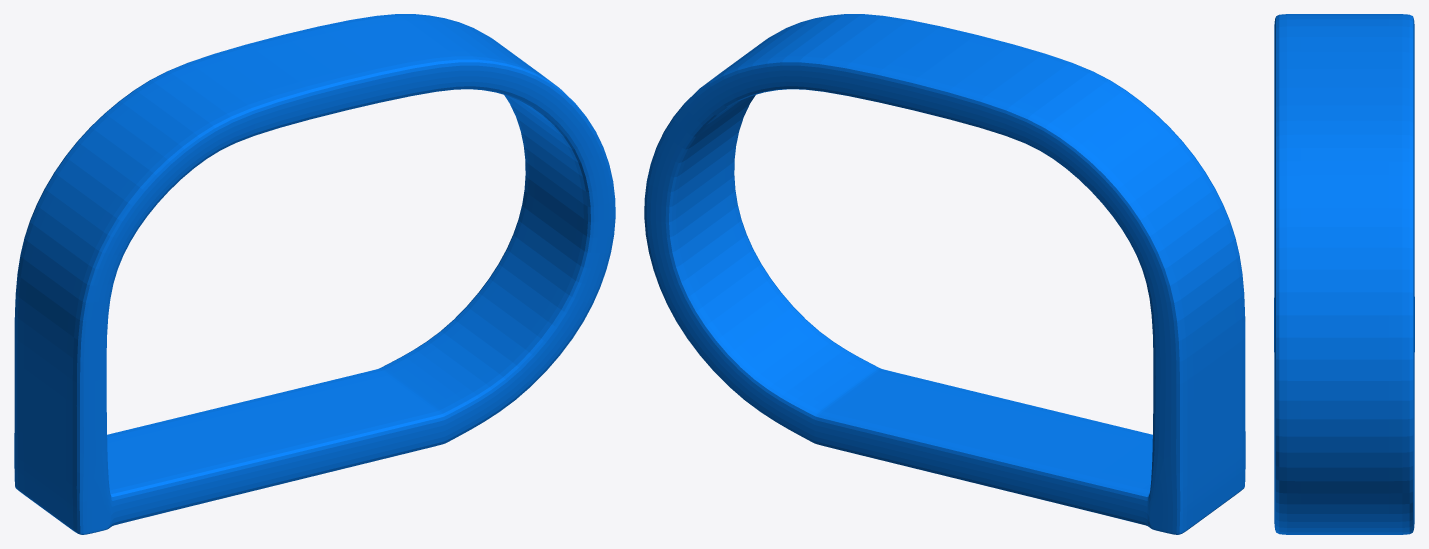
The picture shows the model from 3 angles, left to right: view 1: azimuth 30°, elevation 25°; view 2: azimuth 150°, elevation 25°; view 3: azimuth 270°, elevation 25°; orthographic projection. The views are drawn at different scales.
Parts seen in each view (by area): view 1: Plane; view 2: Plane; view 3: Plane.
Part boxes in pixels (x1=…): Plane: x1=14, y1=14, x2=615, y2=534; Plane: x1=644, y1=14, x2=1245, y2=534; Plane: x1=1274, y1=14, x2=1414, y2=534.
Size of the model in its own units: 3.94 by 2.72 by 0.8501.
